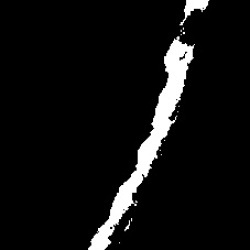crack: (89, 36, 192, 249), (178, 1, 208, 26), (123, 217, 131, 231)
